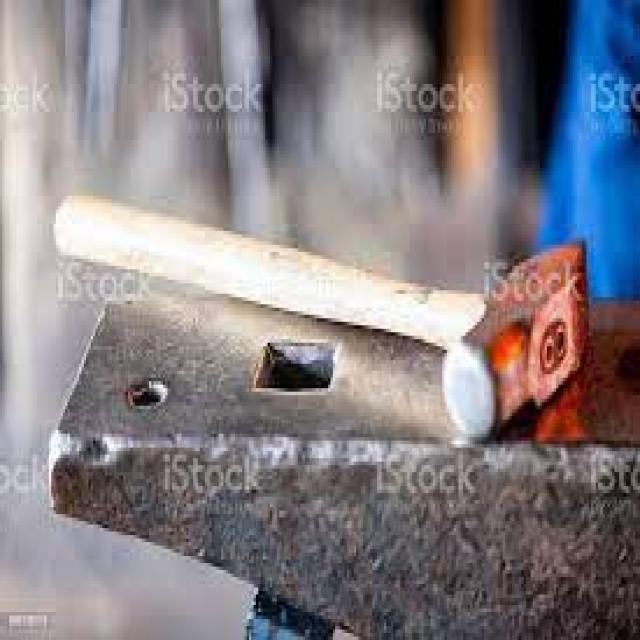hammer: (48, 175, 600, 452)
